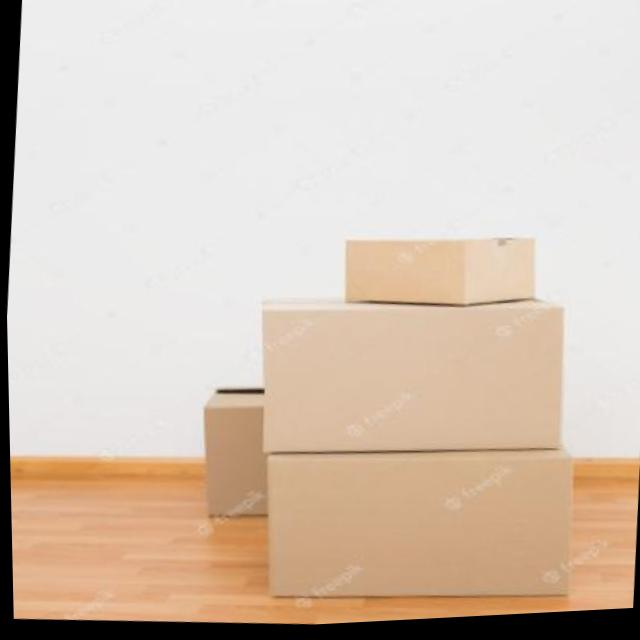box: (237, 288, 588, 477), (253, 439, 595, 630), (338, 223, 551, 325), (191, 376, 276, 530)
